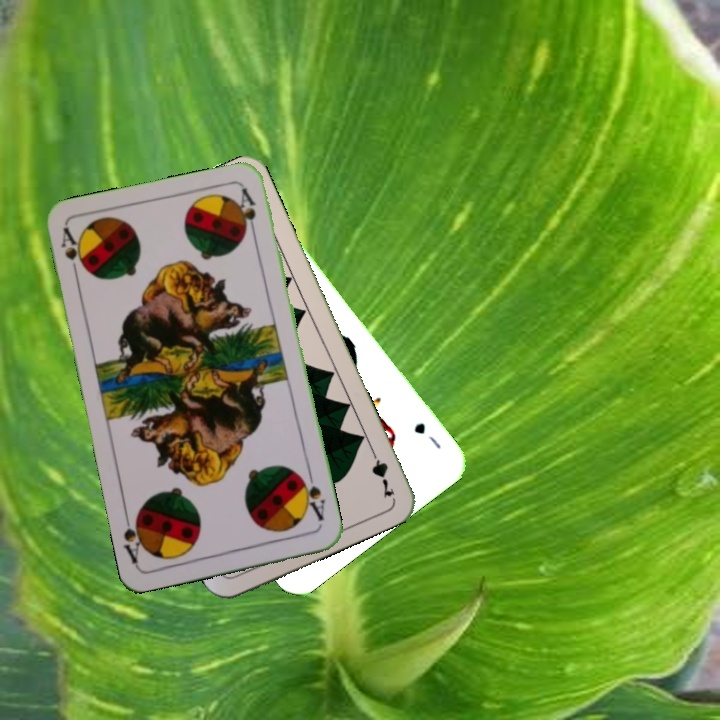G7: (366, 442, 398, 500)
GU: (410, 418, 444, 452)
SA: (56, 224, 90, 283), (296, 469, 328, 524)
